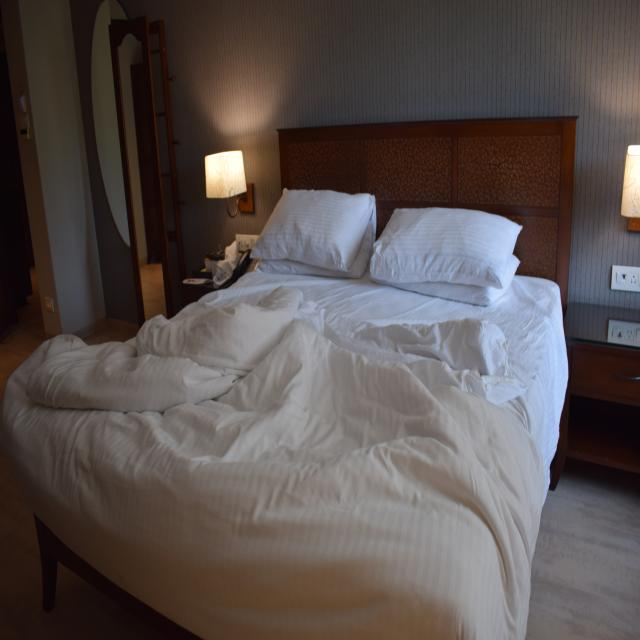mess: (21, 270, 526, 640), (238, 168, 576, 394)
